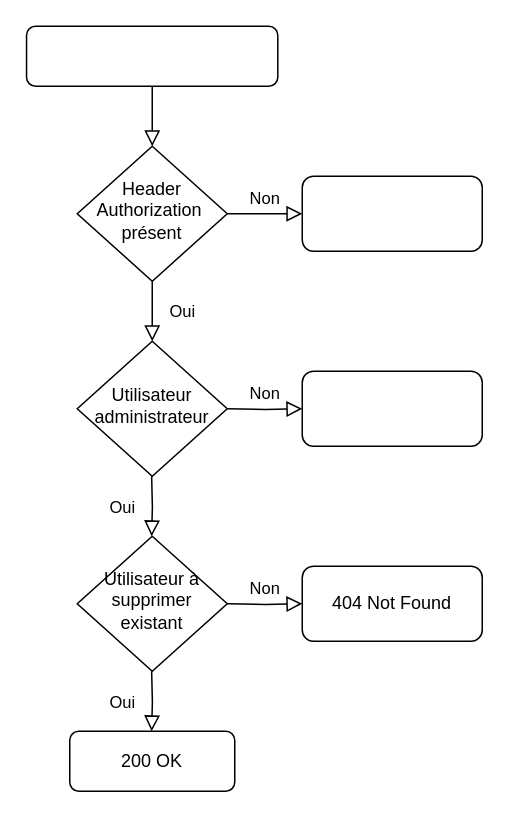
This 509x818 diagram has some shape labels left out. The shapes that lost their labels are listed below. From the top down, each one's box as (x1, y1, x2, y2) in pixels, then its label:
(25, 25, 278, 86): DELETE api/v1/users/{idUser}
(301, 175, 482, 251): 401 Unauthorized
(301, 370, 482, 446): 403 Forbidden
